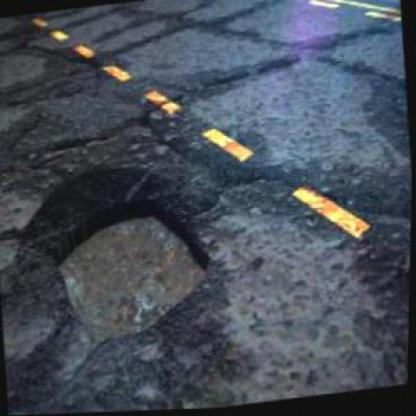pothole: (49, 190, 220, 349)
